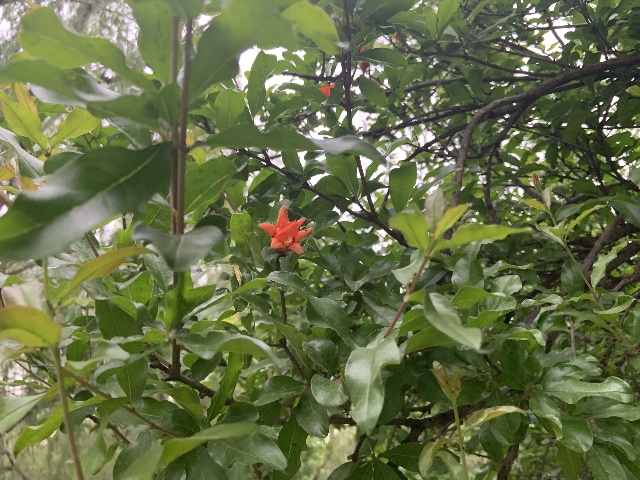flower: (257, 204, 312, 255)
